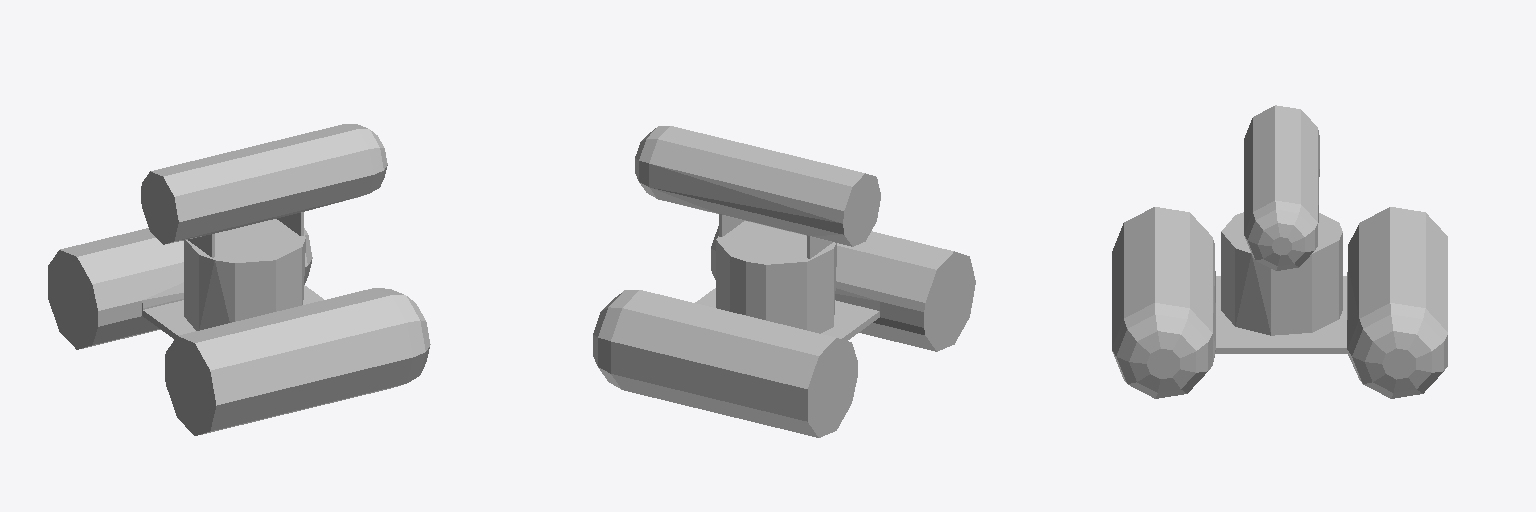
The model's file is ROV_4.obj.
3 views of the same model, side by side, from view 1: azimuth 30°, elevation 25°; view 2: azimuth 150°, elevation 25°; view 3: azimuth 270°, elevation 25° (orthographic).
Parts seen in each view (by area): view 1: ROVmodel; view 2: ROVmodel; view 3: ROVmodel.
Boxes of the visible parts, box(x1,y1,x2,y2) form: ROVmodel: box(48, 124, 430, 435); ROVmodel: box(593, 126, 975, 437); ROVmodel: box(1112, 105, 1447, 398).
Size of the model in its own units: 8.22 by 6.61 by 9.68.